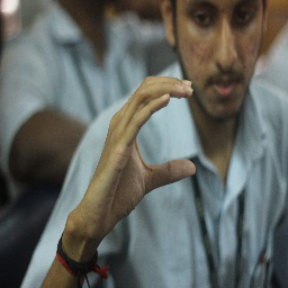C: (104, 68, 203, 195)
